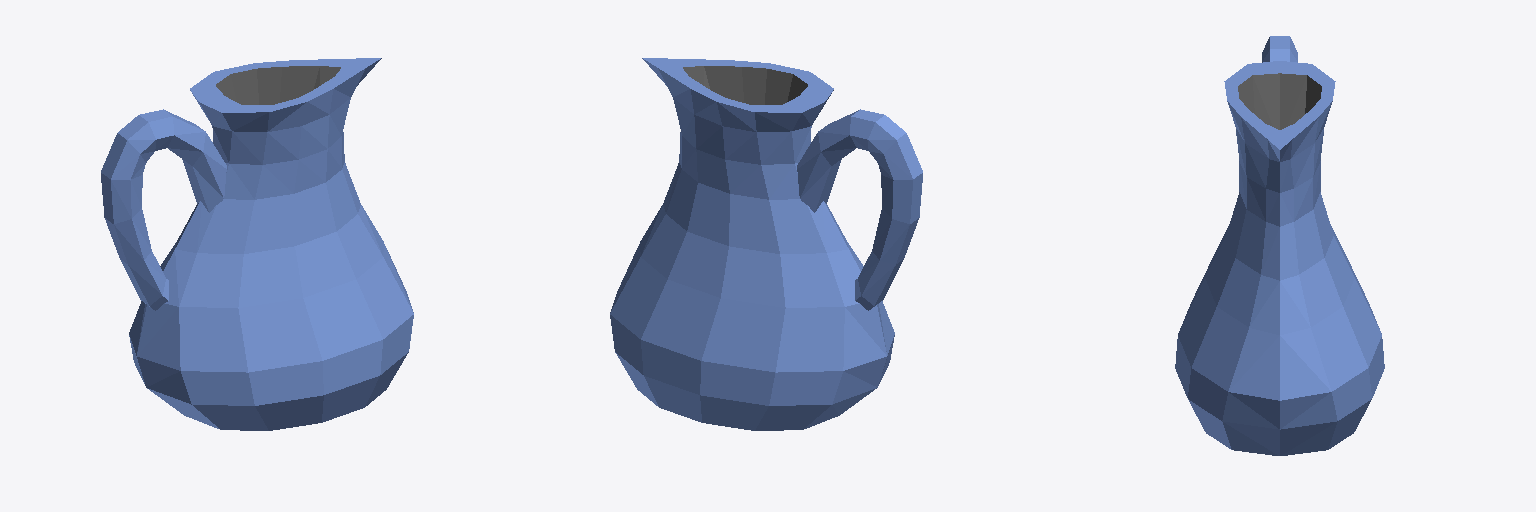
The model's file is reference.obj.
3 views of the same model, side by side, from view 1: azimuth 30°, elevation 25°; view 2: azimuth 150°, elevation 25°; view 3: azimuth 270°, elevation 25° (orthographic).
Parts seen in each view (by area): view 1: Circle; view 2: Circle; view 3: Circle.
Boxes of the visible parts, <box> form: Circle: <box>101,58,413,430</box>; Circle: <box>610,58,922,430</box>; Circle: <box>1175,36,1384,455</box>.
Bounding box in the file's own units: 1.3 × 1.38 × 0.7834.